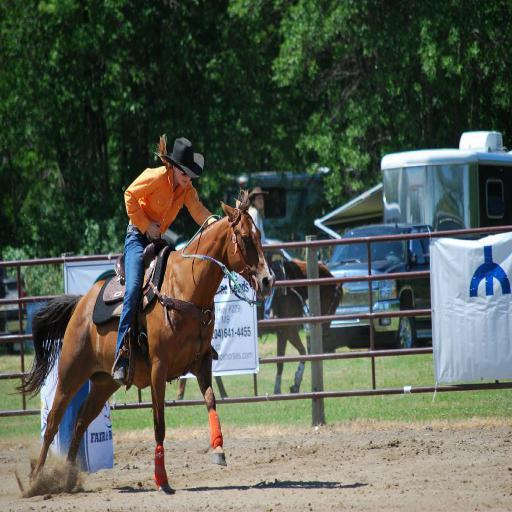Horse: (16, 193, 275, 494), (256, 251, 346, 401)
